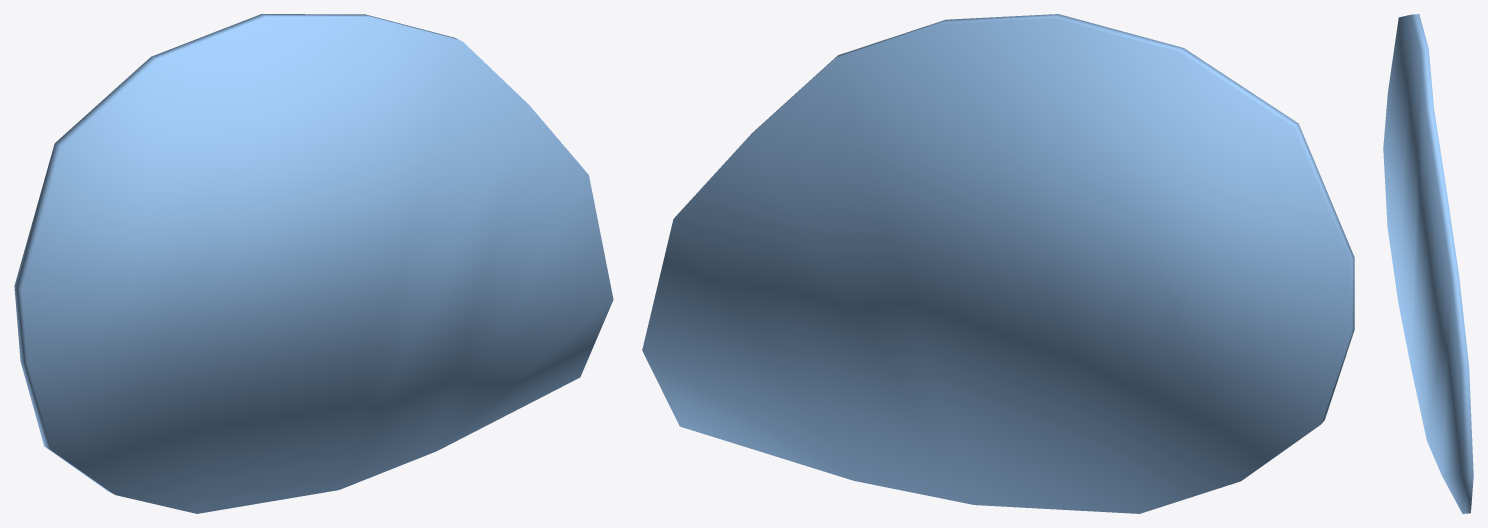
Rendered from Wing_L.obj.
The picture shows the model from 3 angles, left to right: view 1: azimuth 30°, elevation 25°; view 2: azimuth 150°, elevation 25°; view 3: azimuth 270°, elevation 25°; orthographic projection. The views are drawn at different scales.
Parts seen in each view (by area): view 1: C_Wing_L; view 2: C_Wing_L; view 3: C_Wing_L.
Boxes of the visible parts, x1=… form: C_Wing_L: x1=14, y1=14, x2=613, y2=513; C_Wing_L: x1=642, y1=14, x2=1354, y2=513; C_Wing_L: x1=1383, y1=14, x2=1473, y2=513.
Bounding box in the file's own units: 1.49 × 1.09 × 0.2443.
Materials: 1 (1 with a texture image).
